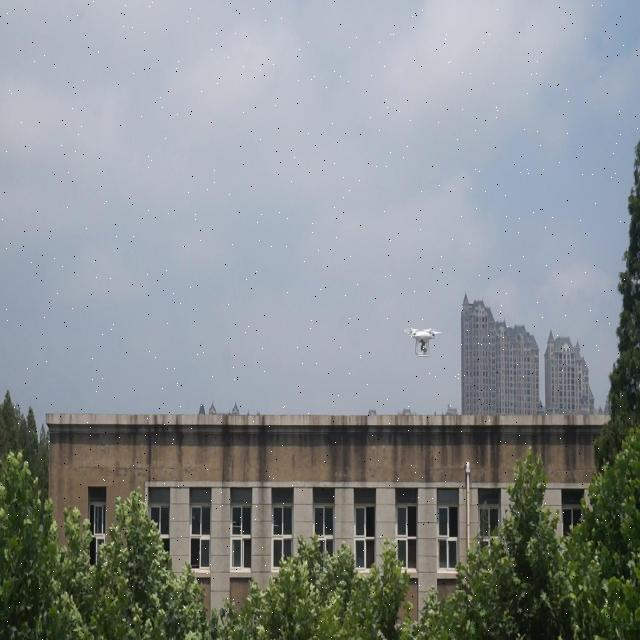UAV: (404, 328, 442, 357)
